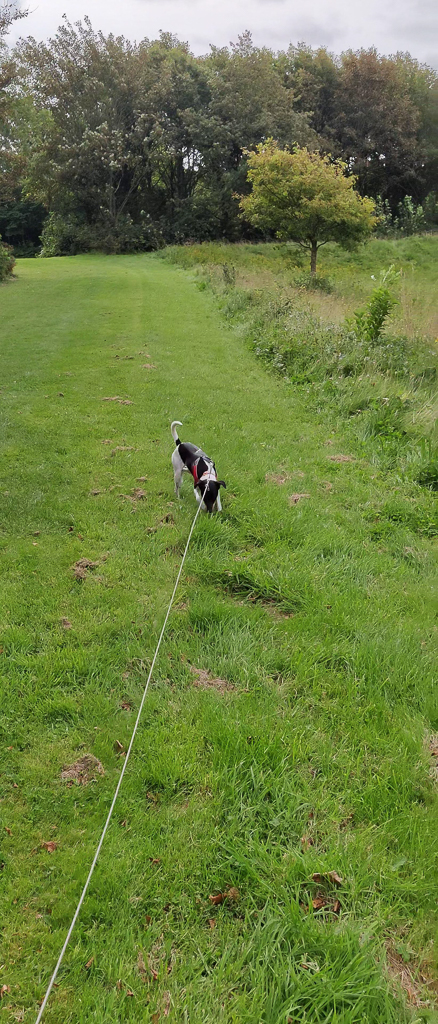Dog: (157, 414, 235, 521)
